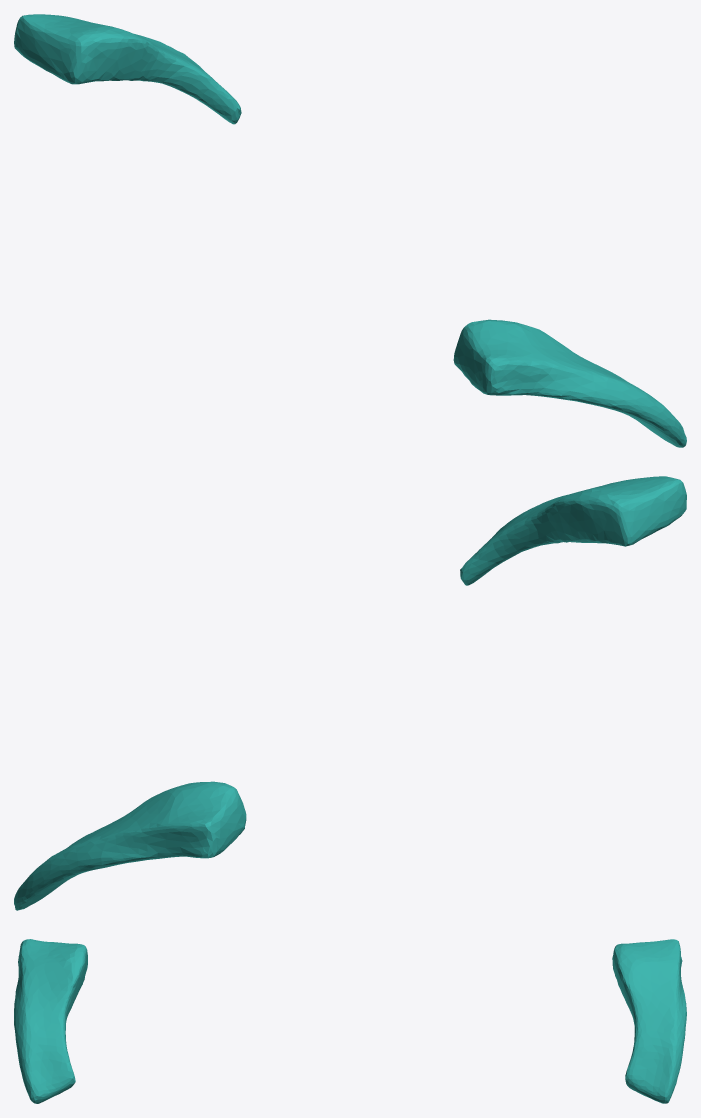
3 views of the same model, one above another, from view 1: azimuth 30°, elevation 25°; view 2: azimuth 150°, elevation 25°; view 3: azimuth 270°, elevation 25° (orthographic). The views are drawn at different scales.
Parts seen in each view (by area): view 1: 895.obj; view 2: 895.obj; view 3: 895.obj.
Part boxes in pixels (x1,y1,x2,y2): 895.obj: [14, 14, 686, 447]; 895.obj: [14, 476, 686, 910]; 895.obj: [14, 939, 686, 1103].
Bounding box in the file's own units: 2537 × 1687 × 10219.
